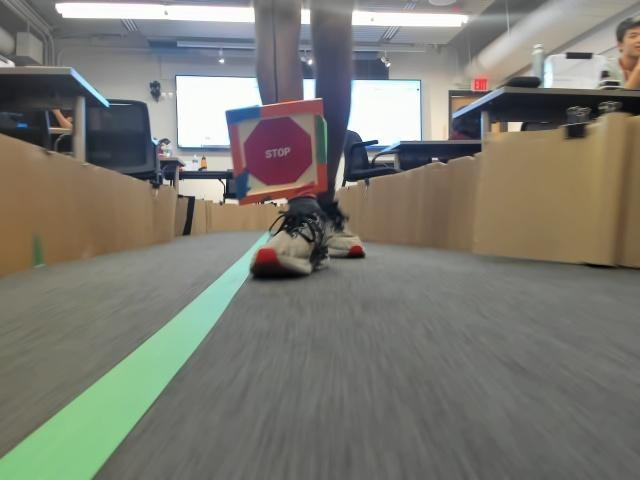Stop: (240, 121, 307, 187)
